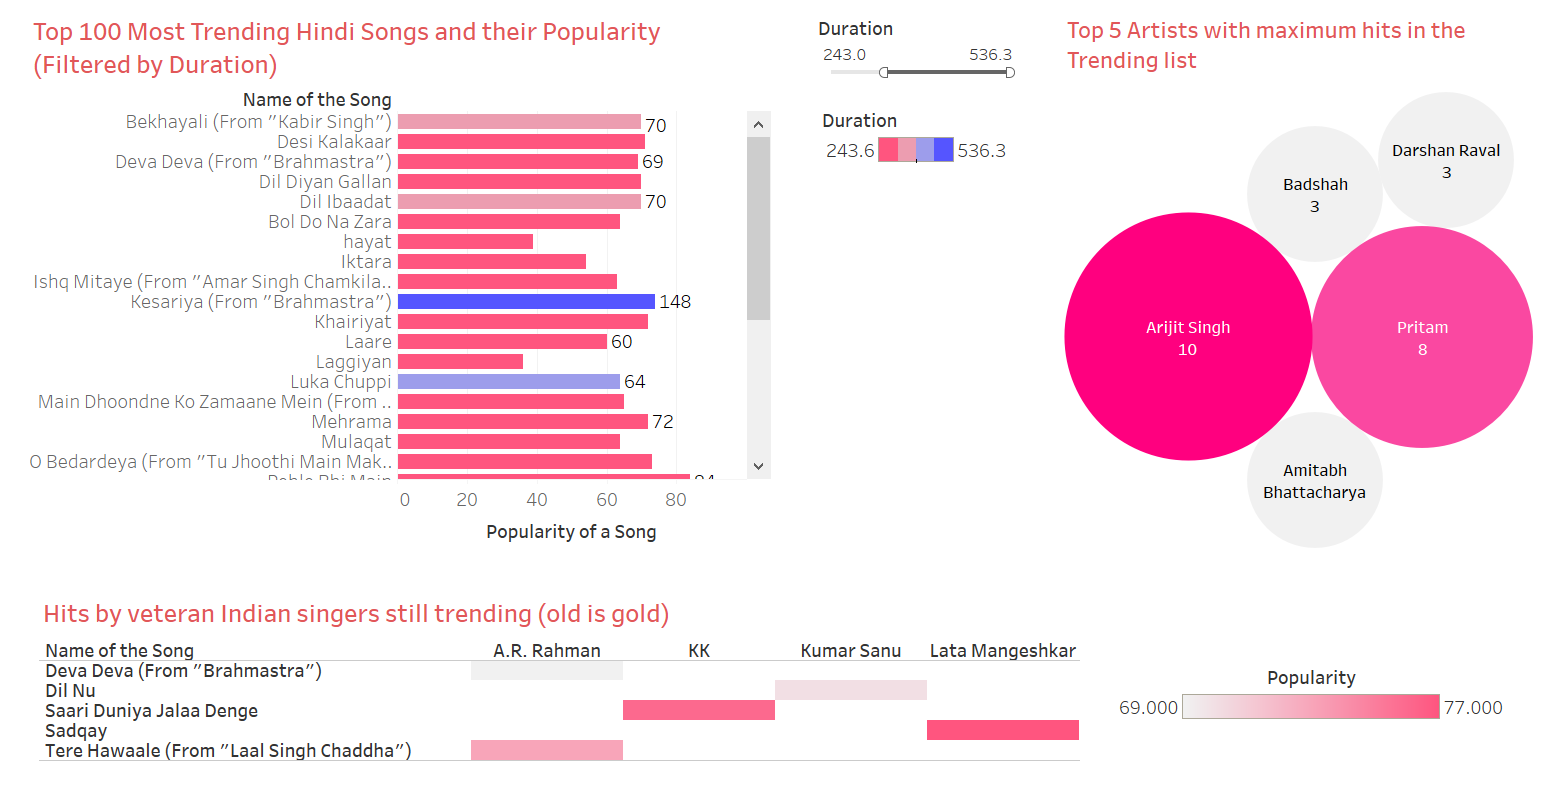

The page's visual inventory and layout, read from the dashboard file:
{"tool":"tableau","page":{"name":"Dashboard 2","canvas":[1000,1000],"units":"permille","ordinal":0},"visuals":[{"type":"worksheet","title":"Sheet 1","mark":"Automatic","rows":["name"],"cols":["popularity"],"box":[34.3,19.6,462.6,660.1]},{"type":"worksheet","title":"Sheet 2","mark":"Circle","box":[678.9,19.6,297.4,666.3]},{"type":"filter","title":"Sheet 1","param":"[federated.1lp7udc0b9uaaf1476wnr0jt0ym1].[sum:duration:qk]","box":[526.2,25.7,125.3,90.5]},{"type":"legend","title":"Sheet 1","param":"[federated.1lp7udc0b9uaaf1476wnr0jt0ym1].[sum:duration:qk]","box":[528.7,138.1,117.8,122.2]},{"type":"legend","title":"Sheet 3","param":"[federated.1lp7udc0b9uaaf1476wnr0jt0ym1].[avg:popularity:qk]","box":[711.4,819.1,245,89.2]}]}

Visuals, with their boxes on the dashboard's canvas, which has no fixed pixel size, in thousandths of its width and height (x1, y1, x2, y2). These are canvas units, not pixel positions in the 1565x795 screenshot, which may show the page scaled, cropped or inside an application window:
"Sheet 1" worksheet: 34, 20, 497, 680
"Sheet 2" worksheet (Circle marks): 679, 20, 976, 686
"Sheet 1" filter: 526, 26, 652, 116
"Sheet 1" legend: 529, 138, 646, 260
"Sheet 3" legend: 711, 819, 956, 908
